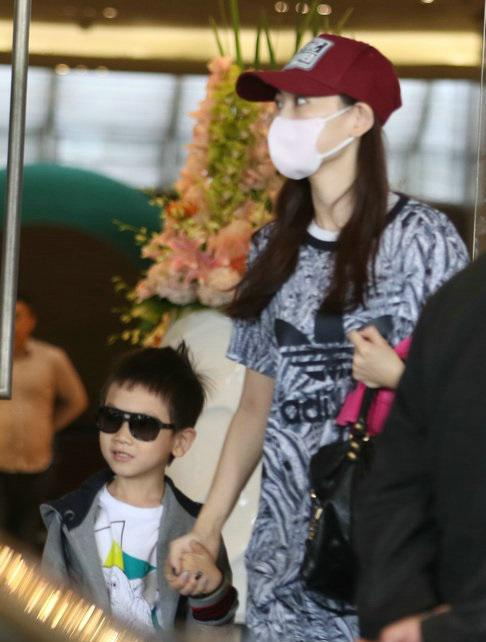NONE: (103, 397, 173, 475)
OK: (271, 94, 355, 179)
